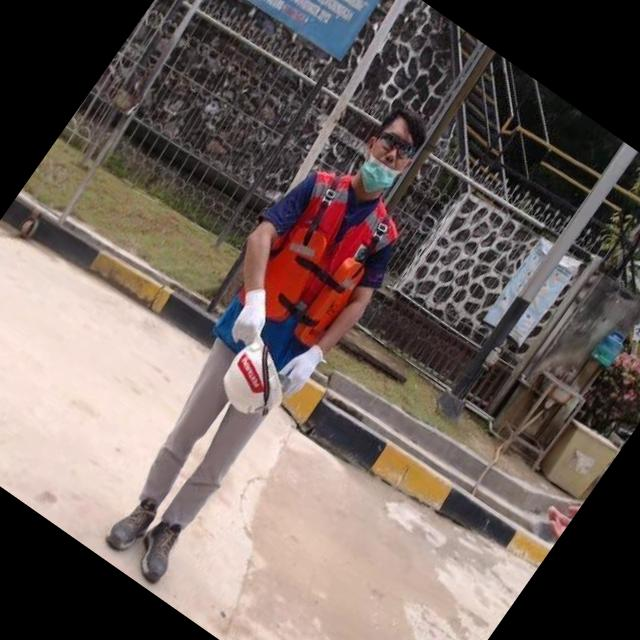hard_hat: (200, 322, 307, 431)
safety_vest: (200, 156, 422, 400)
vehicle: (20, 51, 514, 626)
work_boots: (123, 514, 194, 592), (102, 489, 165, 562)
